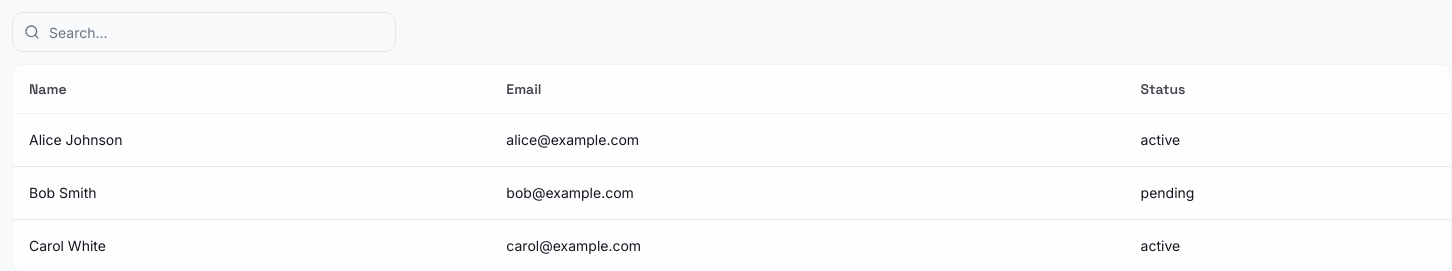
Test: DataTable › shows empty message when search matches nothing
In the field with placeholder "Search...": x=204, y=32 [12, 12, 396, 52], type "zzznomatch"
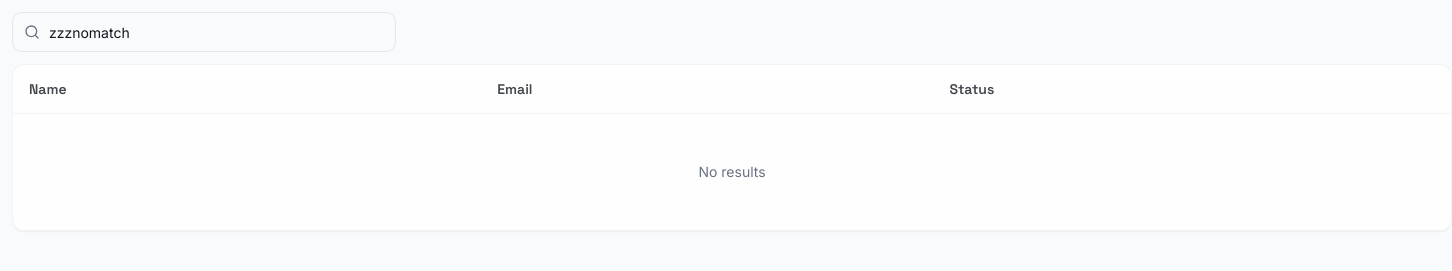
Expected: the text "No results" is shown, [13, 113, 1451, 230]
